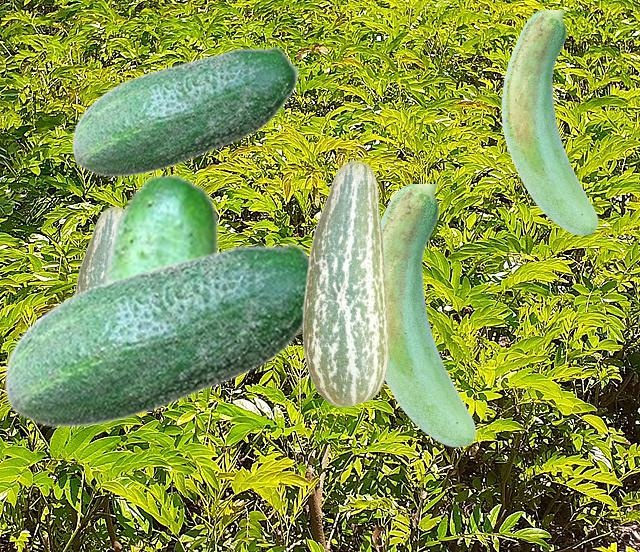cucumber: (3, 242, 308, 427), (71, 46, 299, 176), (382, 184, 475, 446), (501, 10, 597, 234), (302, 160, 388, 406), (103, 172, 218, 281), (74, 206, 122, 292)
